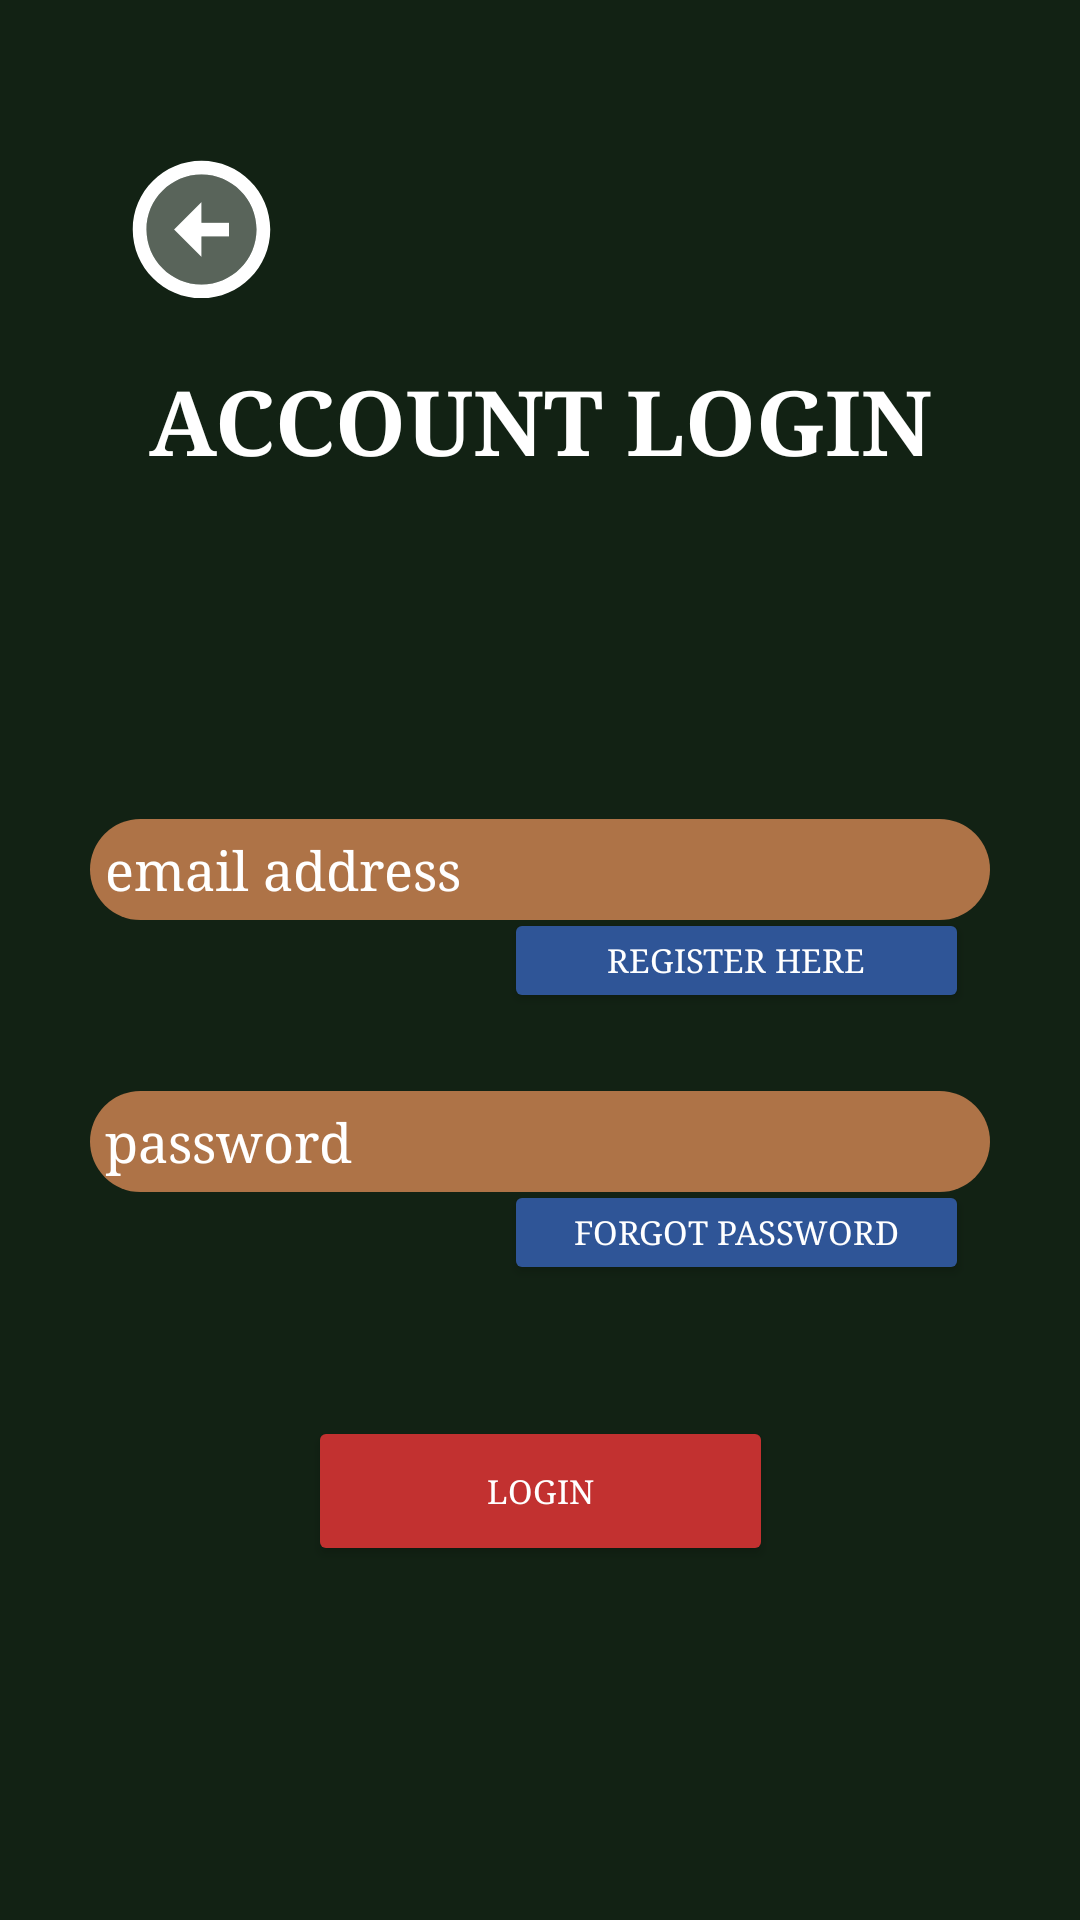

Screen size 1080 x 1920. Icon name, then its box in pixels as (x1, y1, x2, y2):
arrow circle left: (132, 160, 271, 298)
